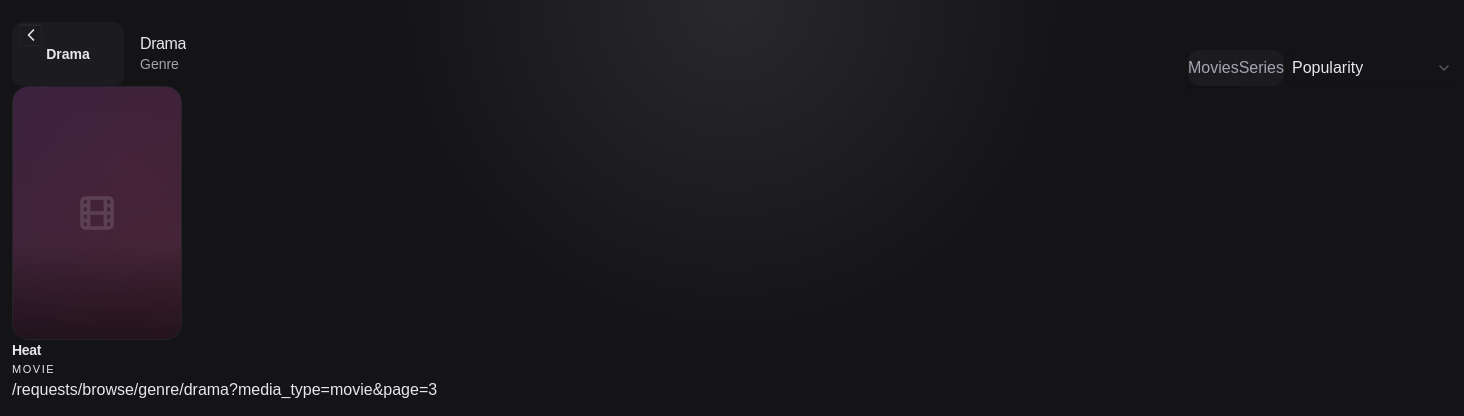
Test: RequestBrowse › drops a legacy page parameter when the media type changes
Press the mouse on the tab "Series" at (1261, 68), box [1239, 50, 1284, 86]
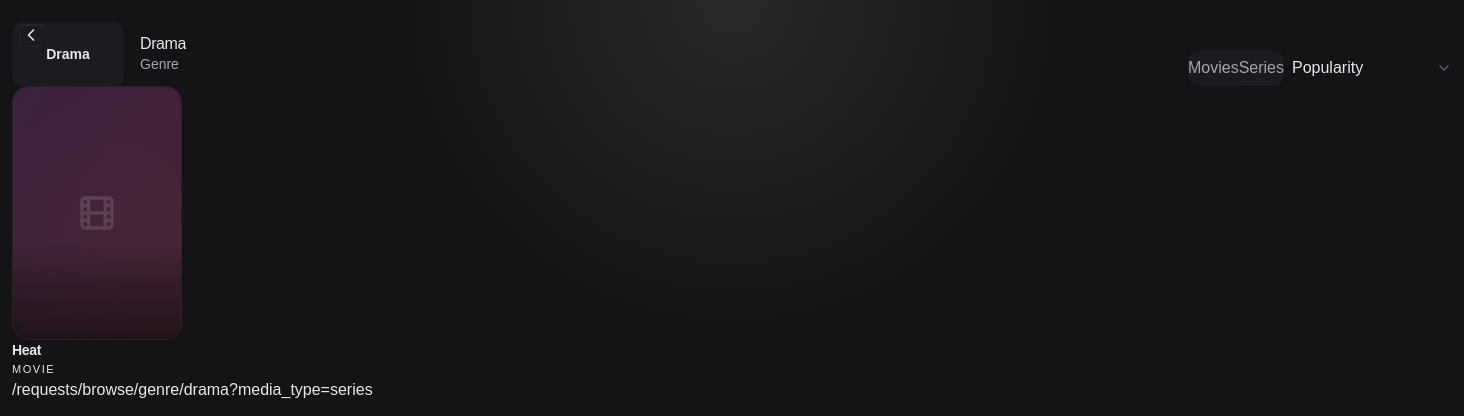
Check: the text with test id "location" reads "/requests/browse/genre/drama?media_type=series", box [12, 381, 373, 398]
Check: the text with test id "location" no longer shows "page=", box [12, 381, 373, 398]
